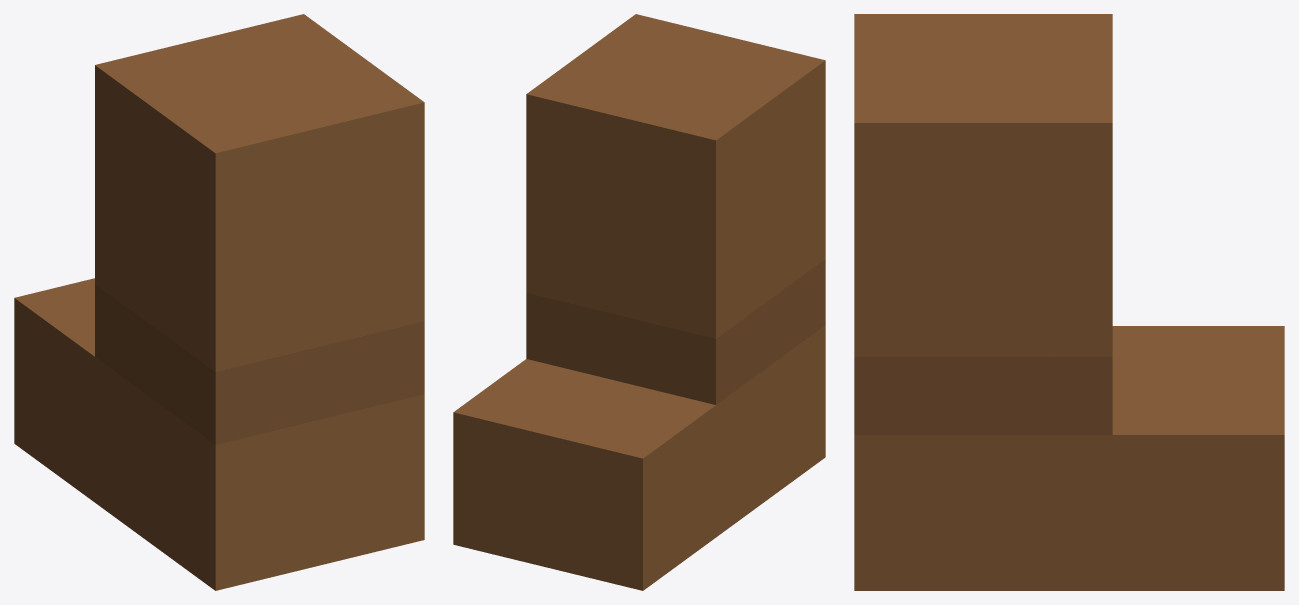
File: player_leg_right.dae
3 views of the same model, side by side, from view 1: azimuth 30°, elevation 25°; view 2: azimuth 150°, elevation 25°; view 3: azimuth 270°, elevation 25° (orthographic). The views are drawn at different scales.
Parts seen in each view (by area): view 1: player_leg_right; view 2: player_leg_right; view 3: player_leg_right.
Part boxes in pixels (<box>): player_leg_right: <box>14,14,424,590</box>; player_leg_right: <box>453,14,825,590</box>; player_leg_right: <box>854,14,1284,590</box>.
Bounding box in the file's own units: 0.3 × 0.5 × 0.6.
Materials: 1 (1 with a texture image).
